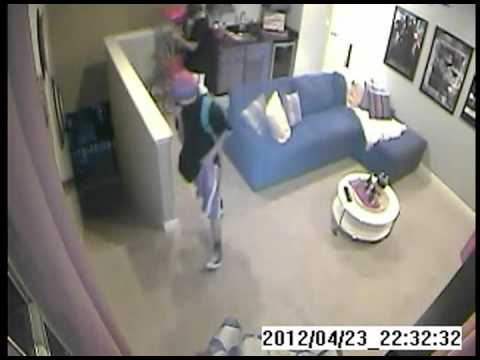Person: (161, 69, 234, 273), (169, 3, 220, 69)
